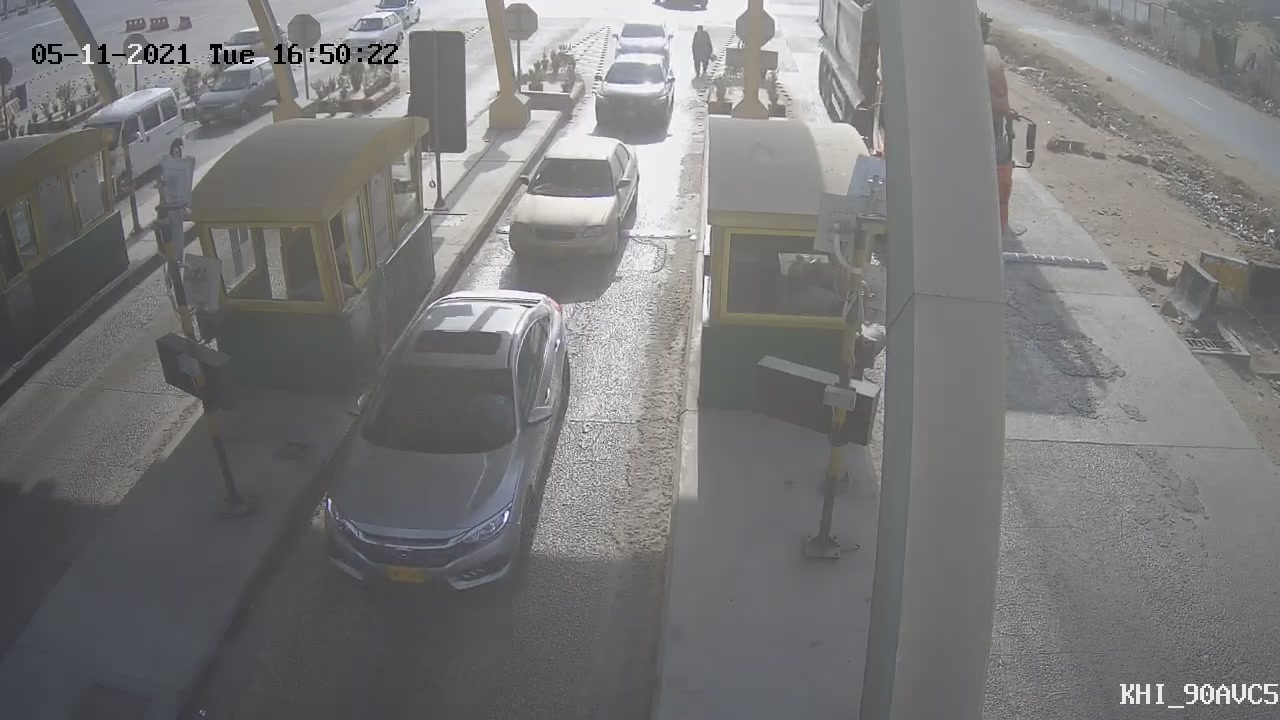F1: (491, 121, 663, 281), (574, 43, 689, 147)
